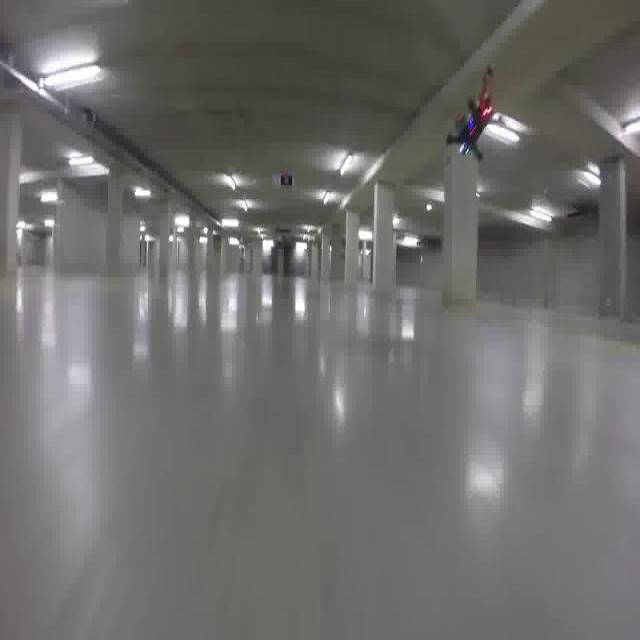drone: (444, 65, 504, 163)
